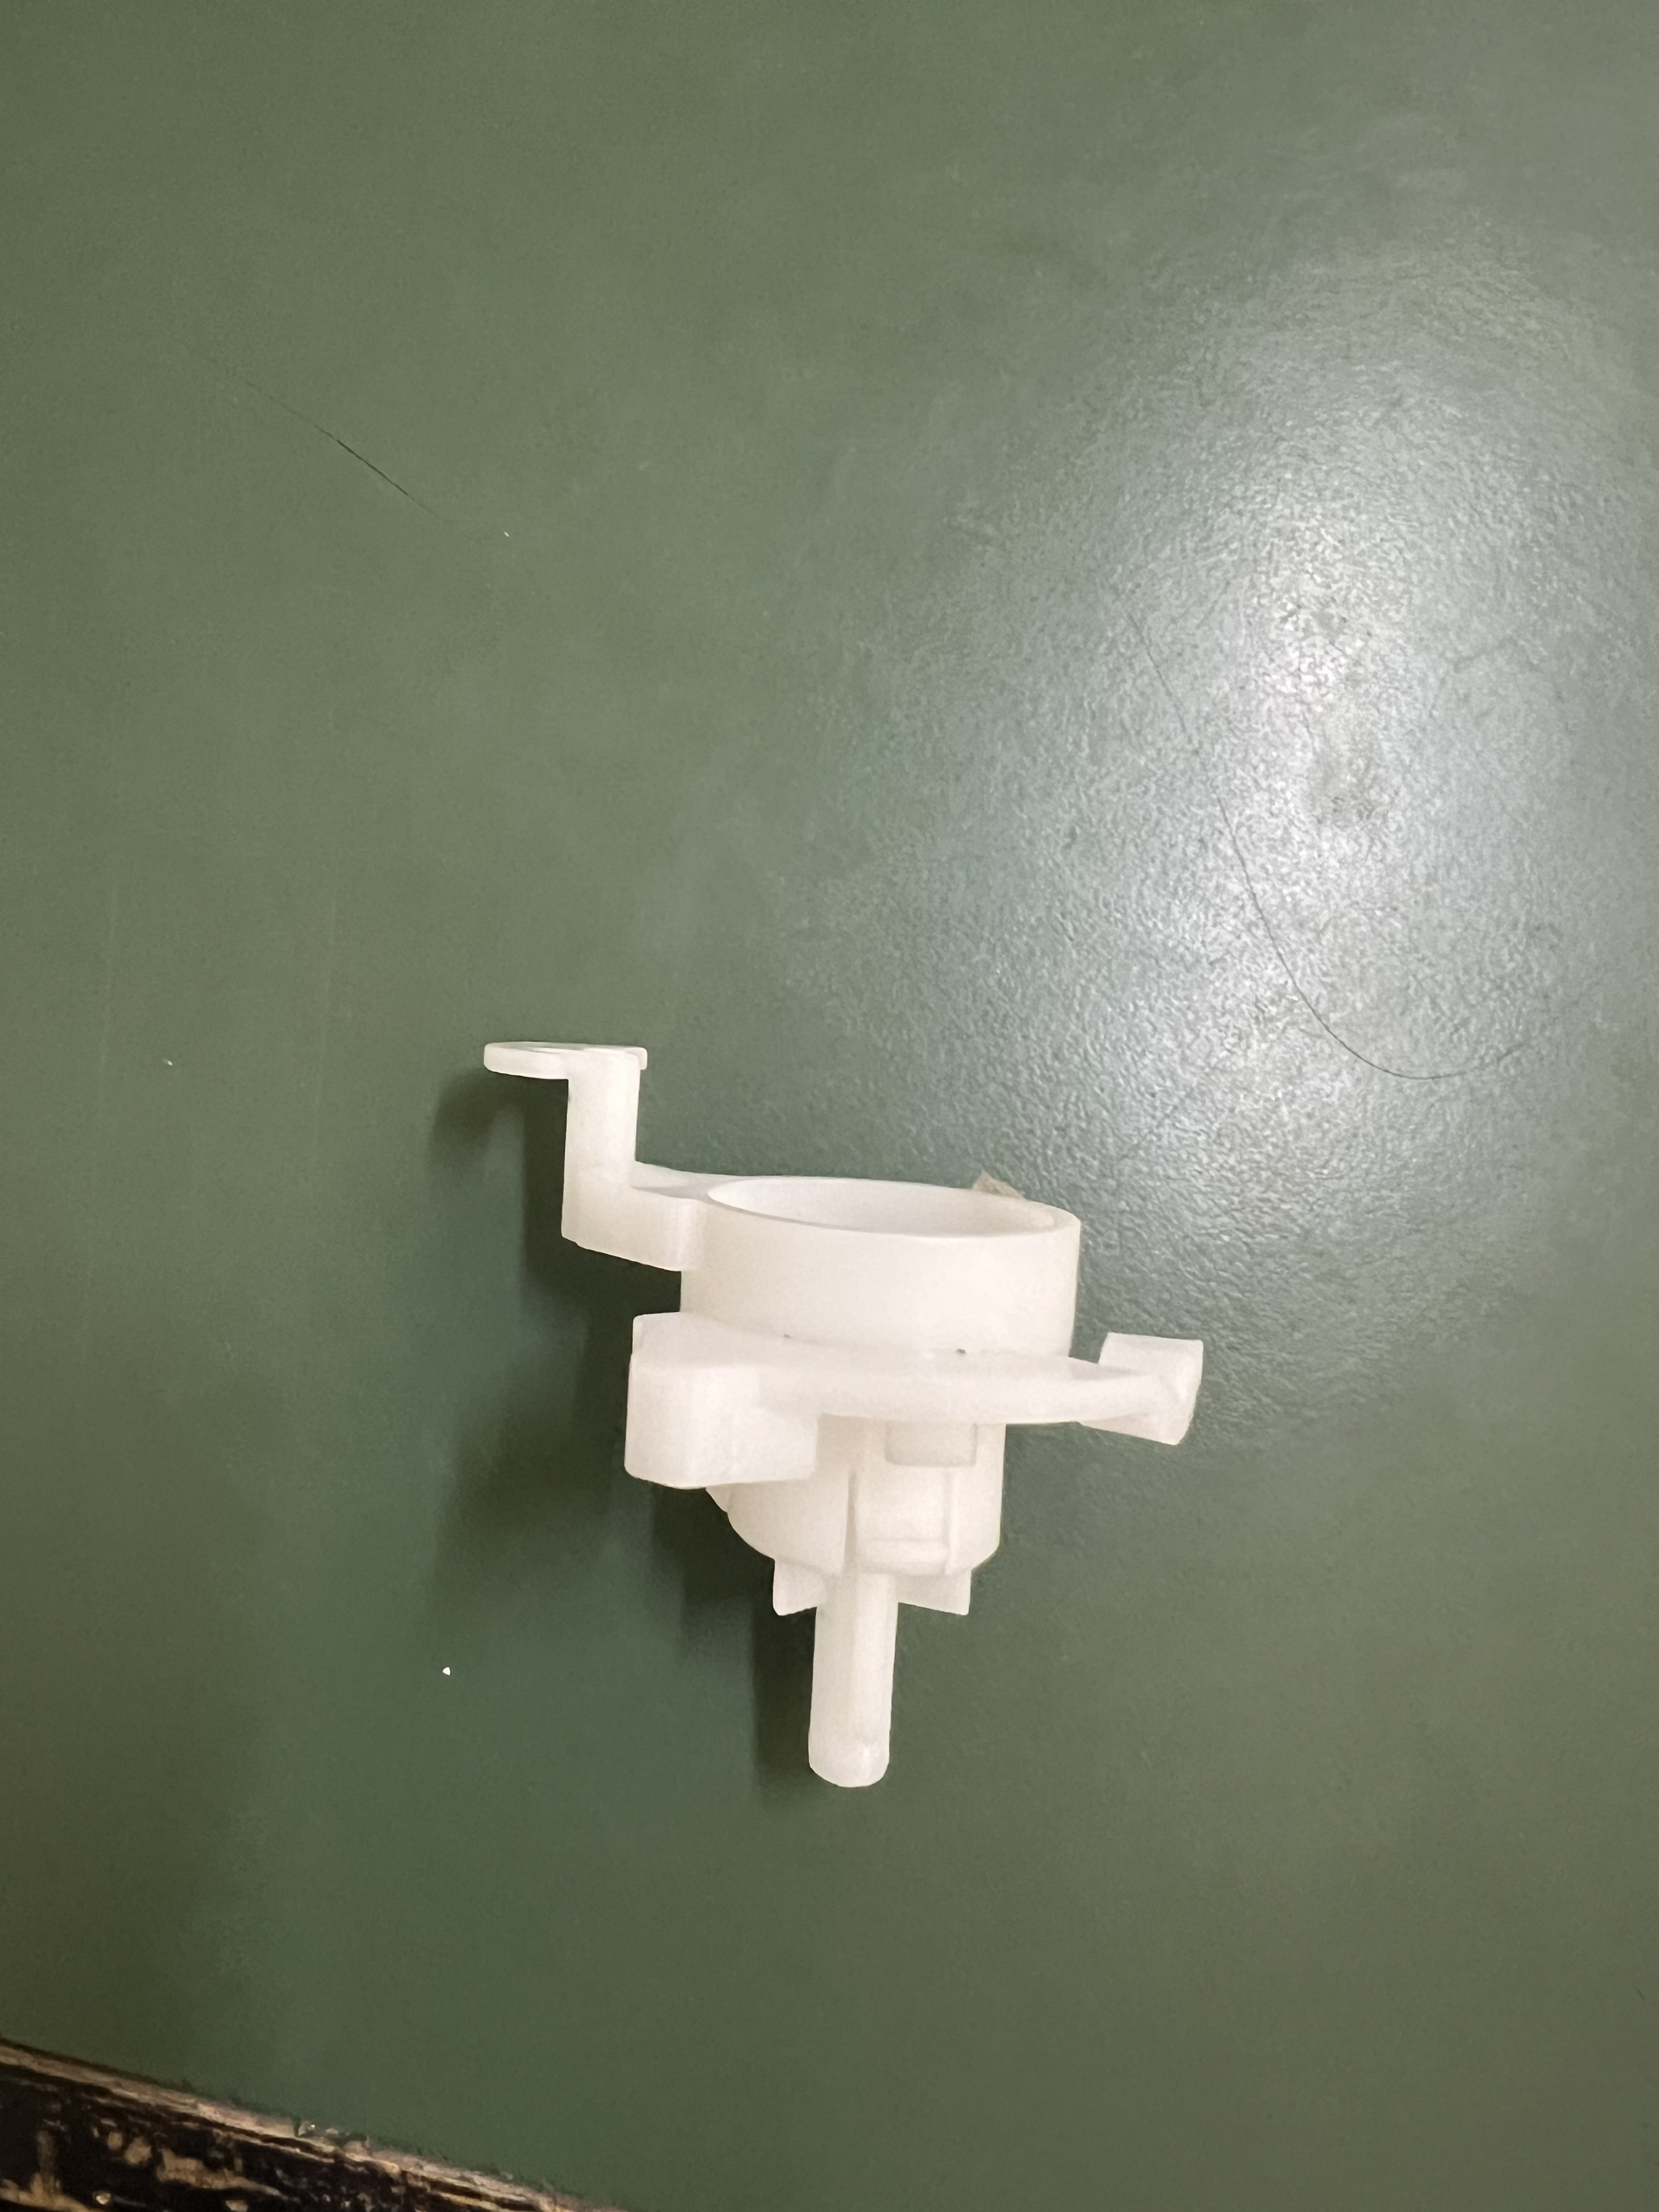drain_lever: (376, 998, 1234, 1810)
